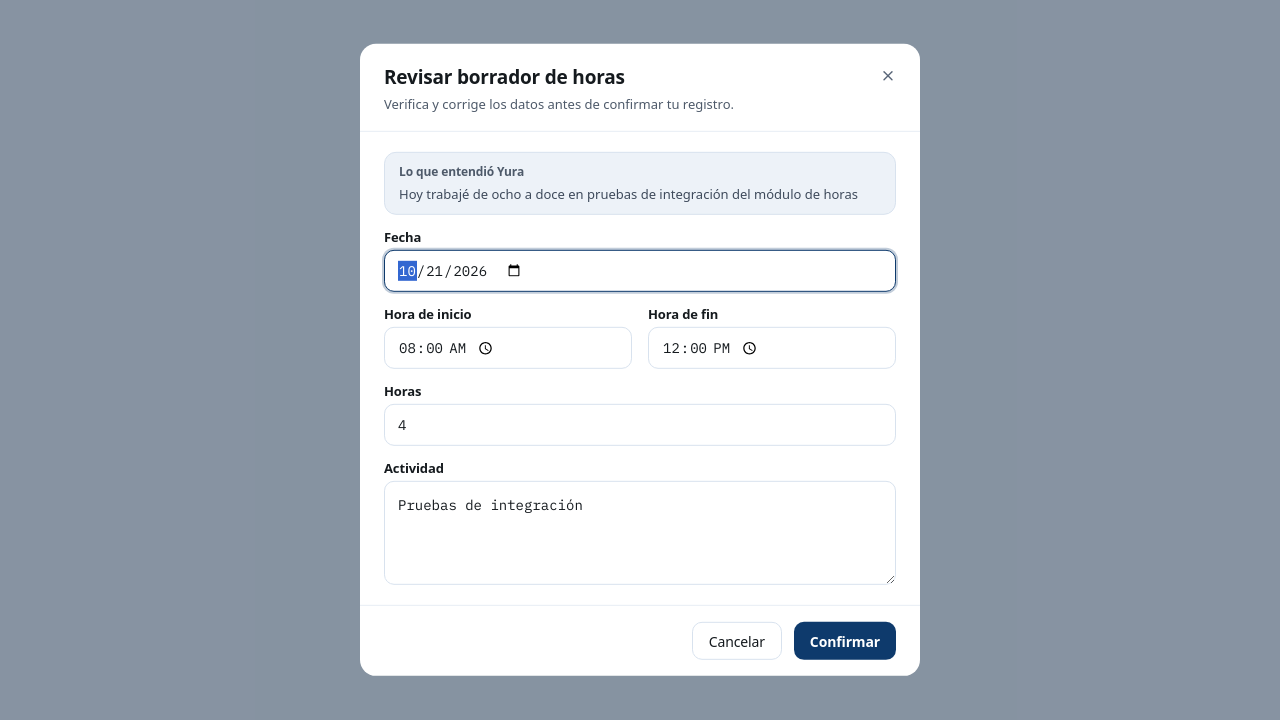
Test: VoiceDraftDialog — revisión y confirmación del borrador de voz (VOZ-06b) › muestra error si falla la escritura local y conserva la nota de voz
The width and height of the screenshot is (1280, 720).
Click the button "Confirmar": click(845, 641) 794,622 -> 896,660
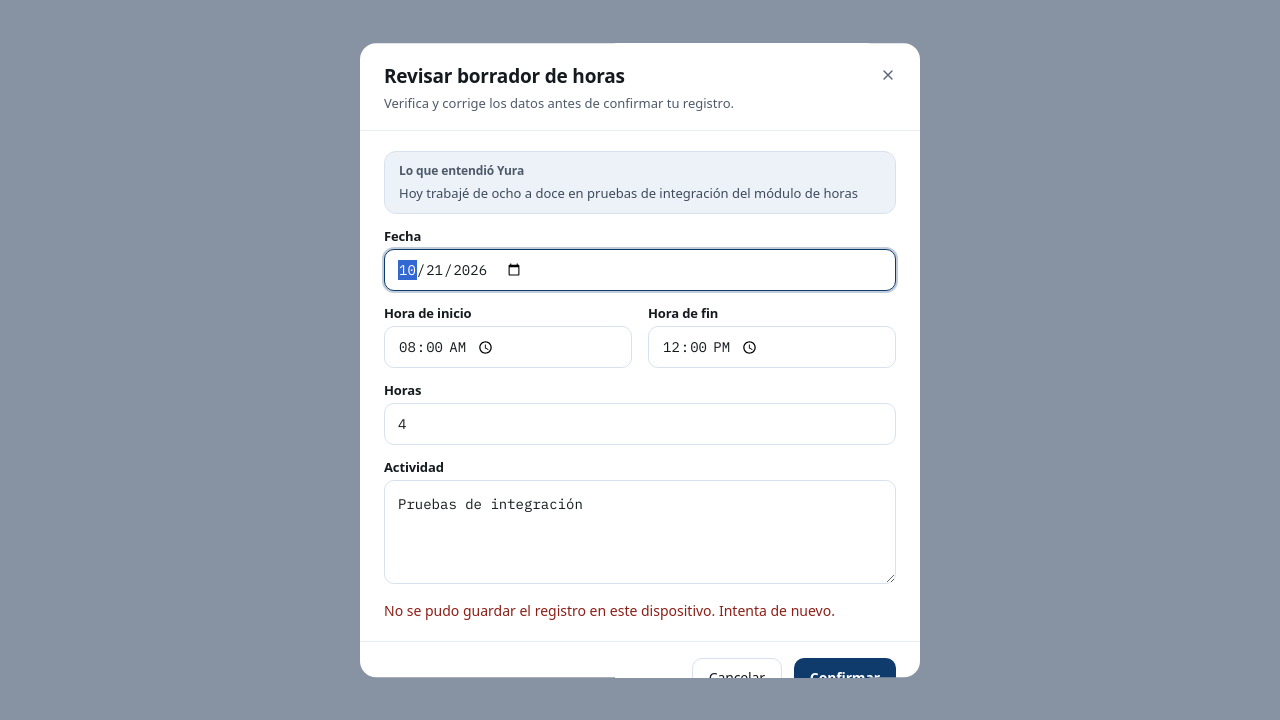
Check: the text "No se pudo guardar el registro en este dispositivo. Intenta de nuevo." is shown, box 384,601 -> 896,622
